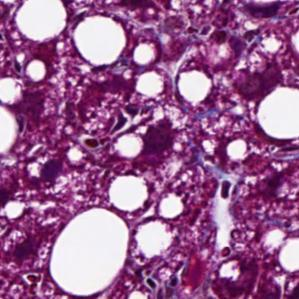inflammation: (29, 148, 81, 193), (210, 169, 246, 206)
